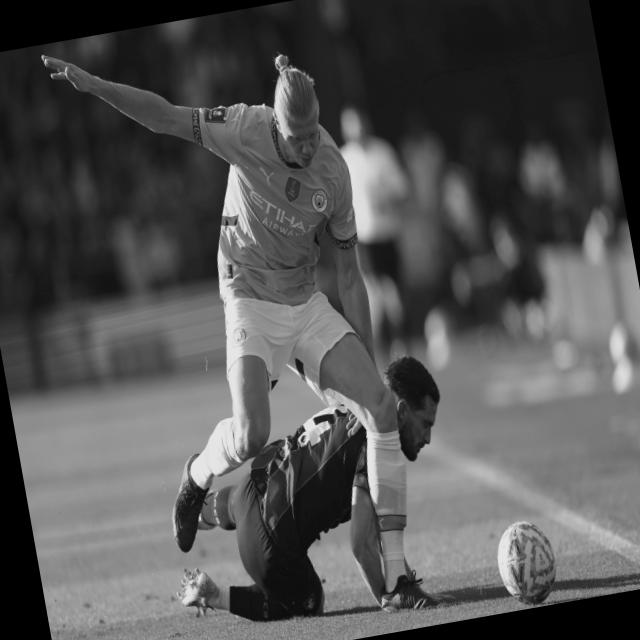football: (499, 523, 557, 604)
